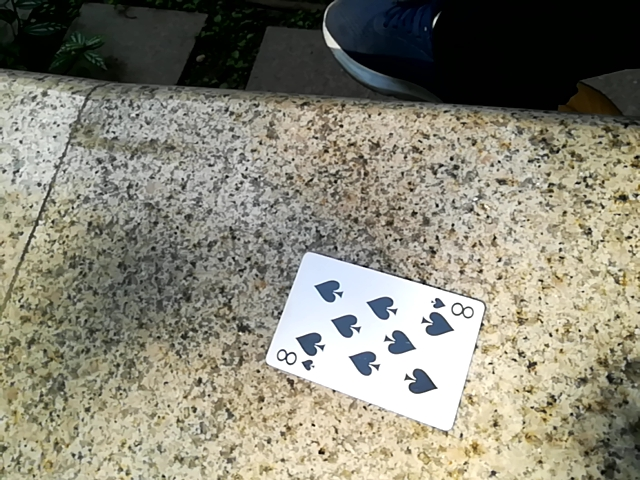ht 8: (262, 251, 483, 432)
